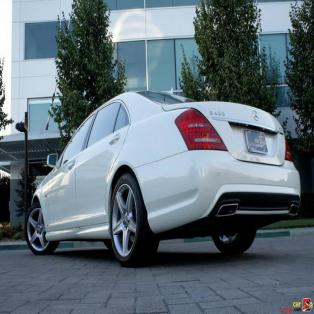Auto: (25, 87, 301, 267)
